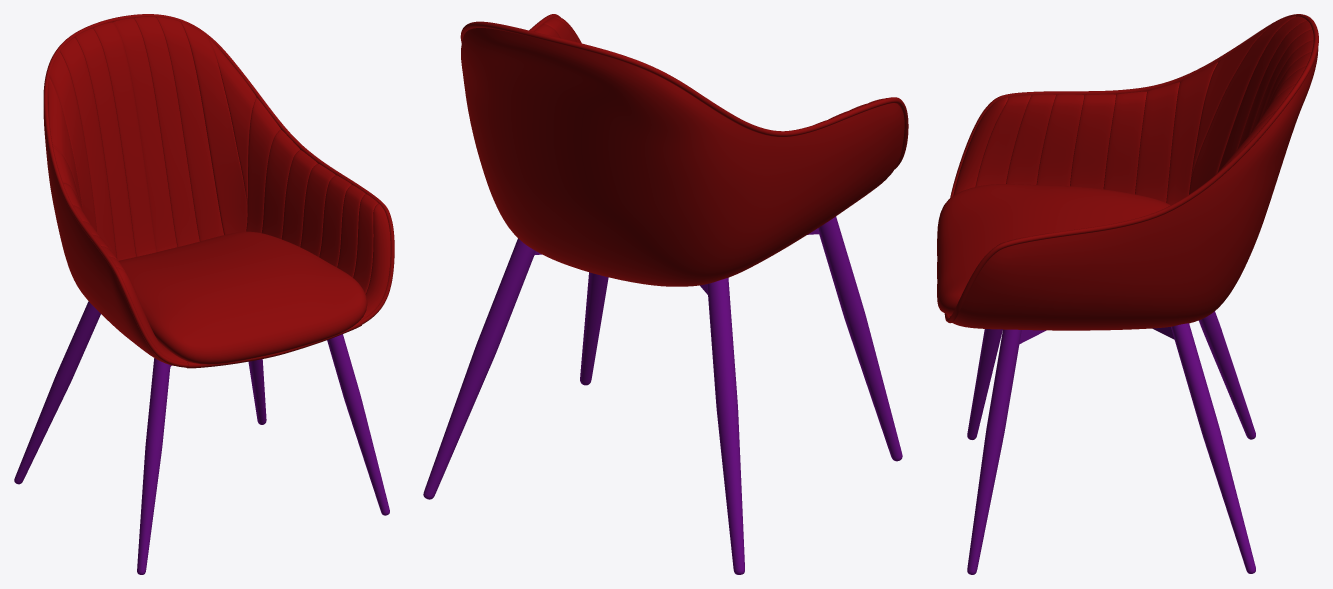
3 views of the same model, side by side, from view 1: azimuth 30°, elevation 25°; view 2: azimuth 150°, elevation 25°; view 3: azimuth 270°, elevation 25° (orthographic). The views are drawn at different scales.
Visible parts, largest first — view 1: 3SM_fabric, 3SM_wood; view 2: 3SM_fabric, 3SM_wood; view 3: 3SM_fabric, 3SM_wood.
Boxes of the visible parts, box(x1,y1,x2,y2) form: 3SM_fabric: box(43, 14, 394, 368); 3SM_wood: box(14, 301, 389, 574); 3SM_fabric: box(460, 14, 908, 286); 3SM_wood: box(423, 216, 902, 574); 3SM_fabric: box(937, 14, 1318, 330); 3SM_wood: box(967, 311, 1255, 574).
Size of the model in its own units: 57.58 by 83.94 by 61.81.
